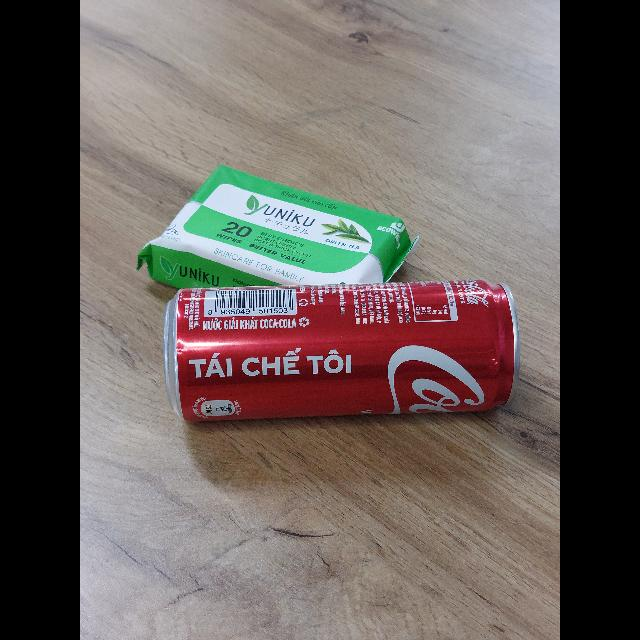coca_cola: (163, 281, 518, 426)
khan_giay: (135, 165, 417, 292)
